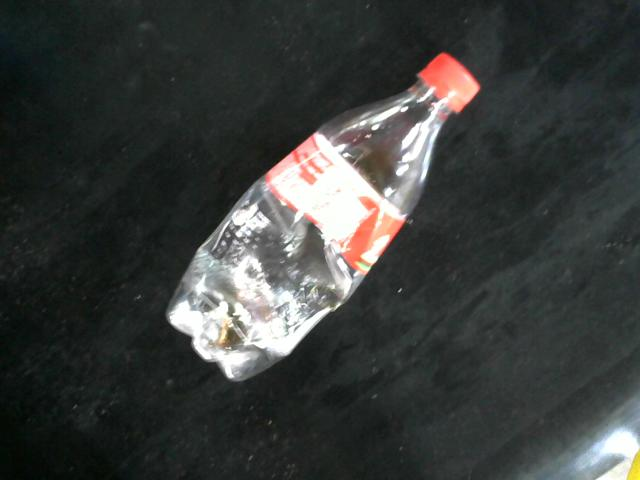bottle: (163, 50, 483, 386)
